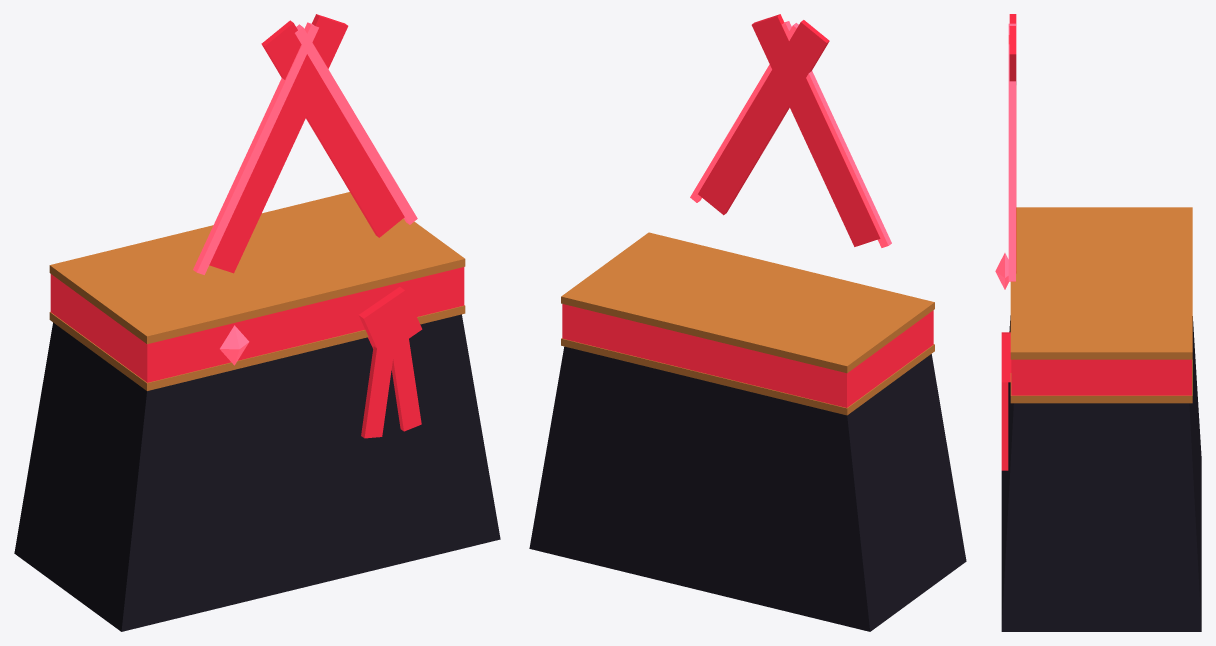
File: eqf_eqko3.glb
The picture shows the model from 3 angles, left to right: view 1: azimuth 30°, elevation 25°; view 2: azimuth 150°, elevation 25°; view 3: azimuth 270°, elevation 25°; orthographic projection. The views are drawn at different scales.
Bounding box in the file's own units: 2.54 × 3.6 × 1.28.
